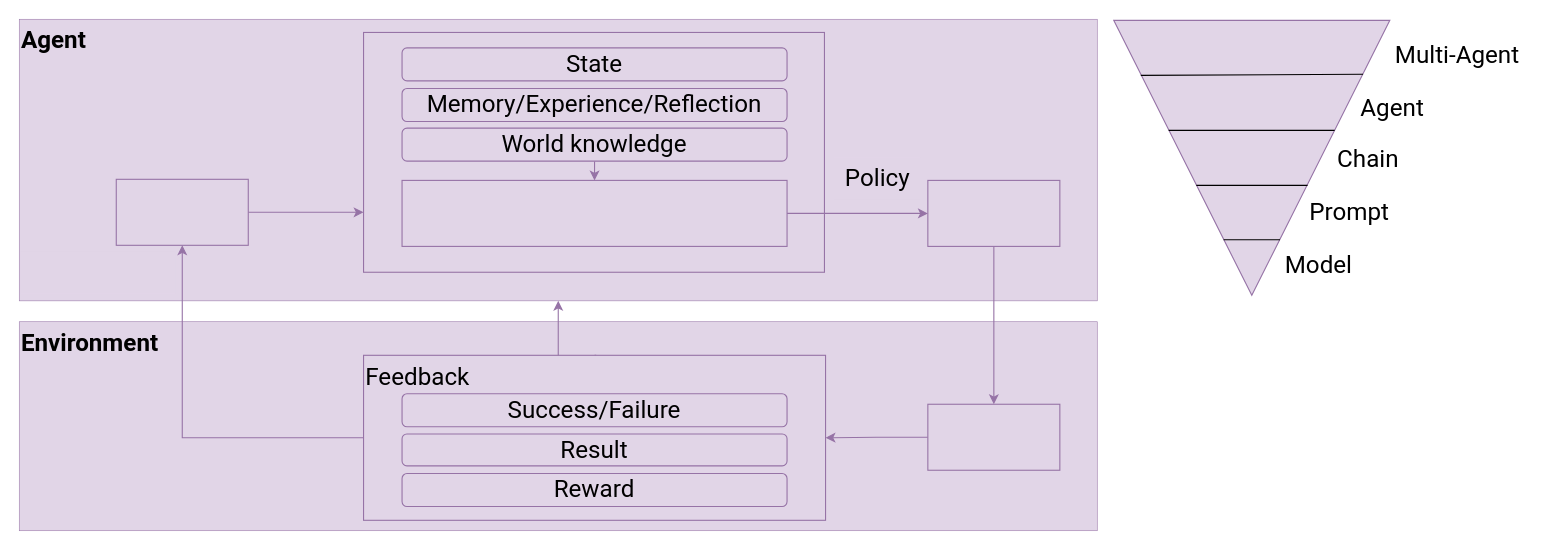
Image size: 1553x550. Some labels were removed from this diagram. The centre of each missing label's shape, as x and y in pixels:
"Action" belongs at point (993, 212).
"Observation" belongs at point (97, 272).
"Perception" belongs at point (181, 211).
"Planning/Decision" belongs at point (594, 212).
"Tools" belongs at point (993, 436).
